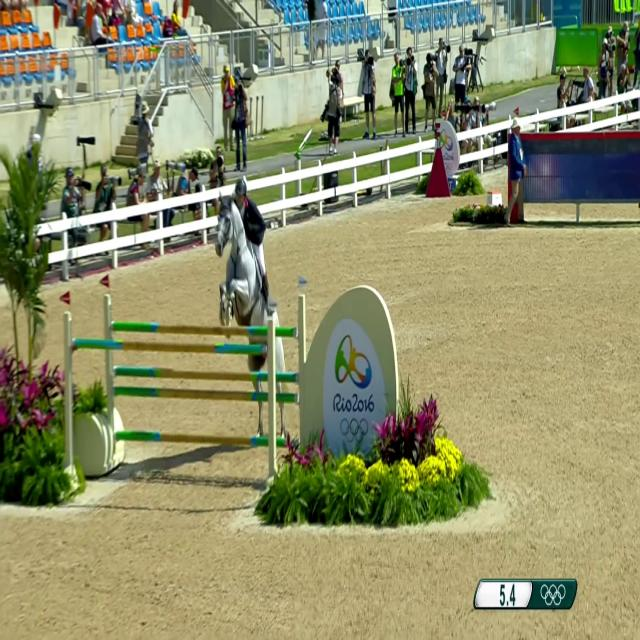Horse Jumping: (203, 206, 284, 387)
Horse Rider: (228, 161, 271, 301)
